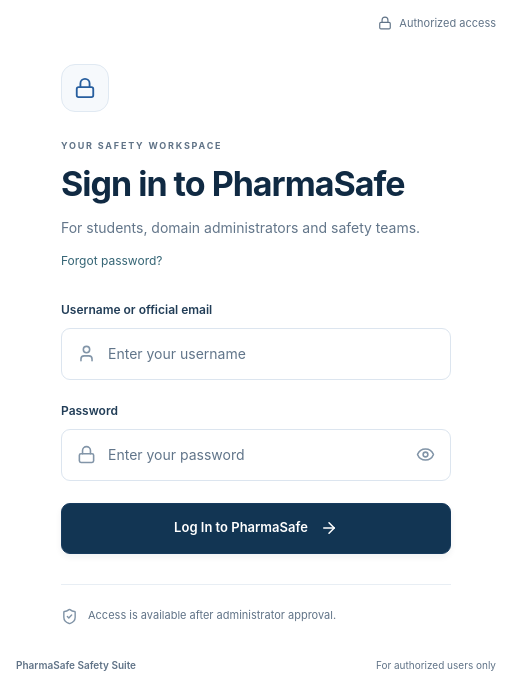
Test: clears browser-inserted admin credentials from employee login on submit
The image size is (513, 688).
Type "pv.auditor.admin" into the field labelled "Username or official email". click: (272, 354)
box: [108, 329, 435, 379]
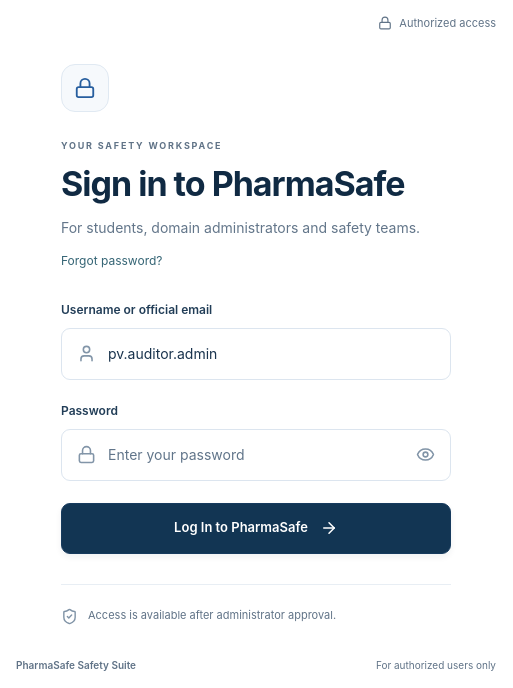
Type "SavedAdminPassword123!" into the password field labelled "Password". click: (253, 455)
box: [108, 430, 398, 480]
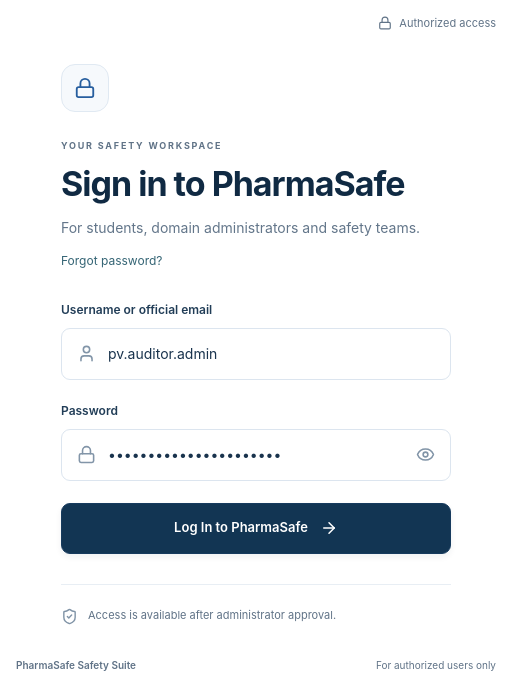
Submit the form labelled "Username or official email", box [61, 301, 451, 554]
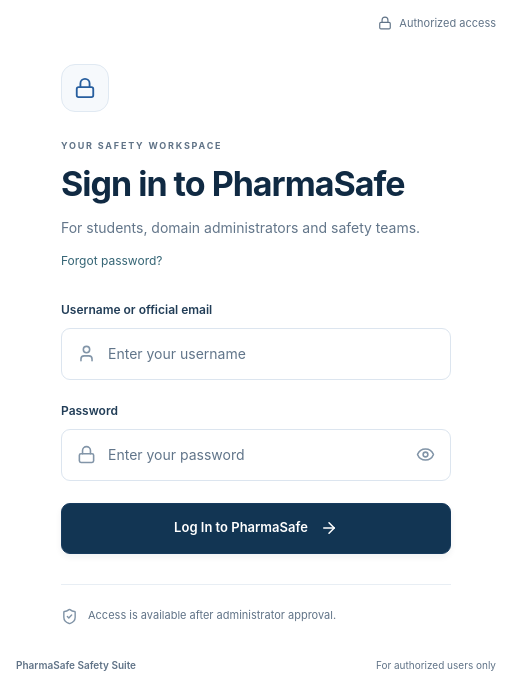
Expected: the field labelled "Username or official email" is empty, [108, 329, 435, 379]
Expected: the password field labelled "Password" is empty, [108, 430, 398, 480]
